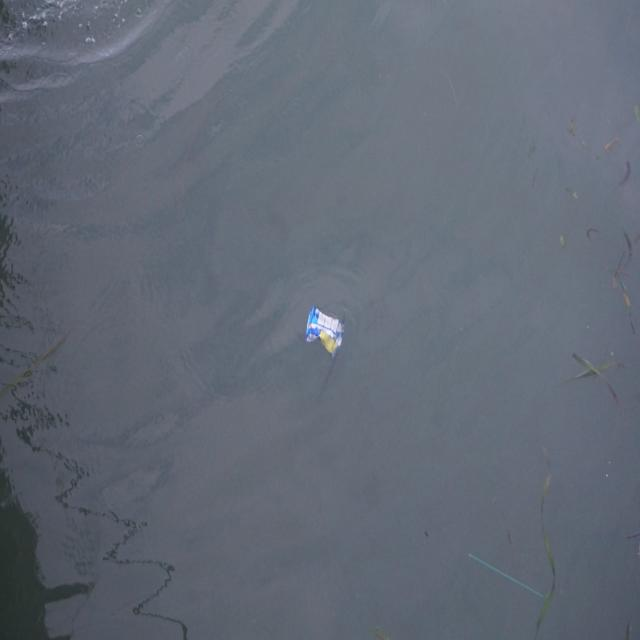Bungkus Makanan: (303, 303, 348, 360)
